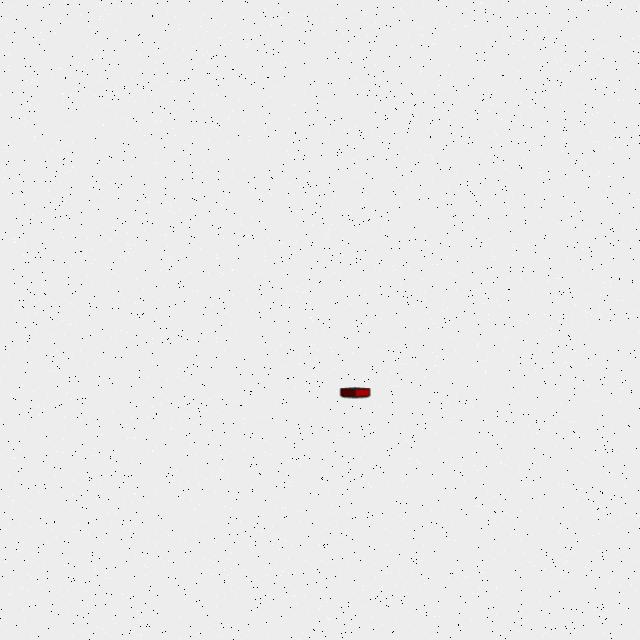3070b: (336, 384, 374, 402)
